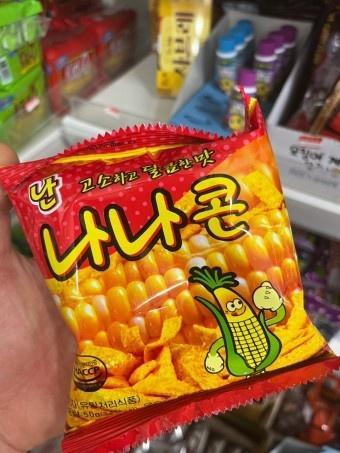snack: (0, 83, 340, 453)
